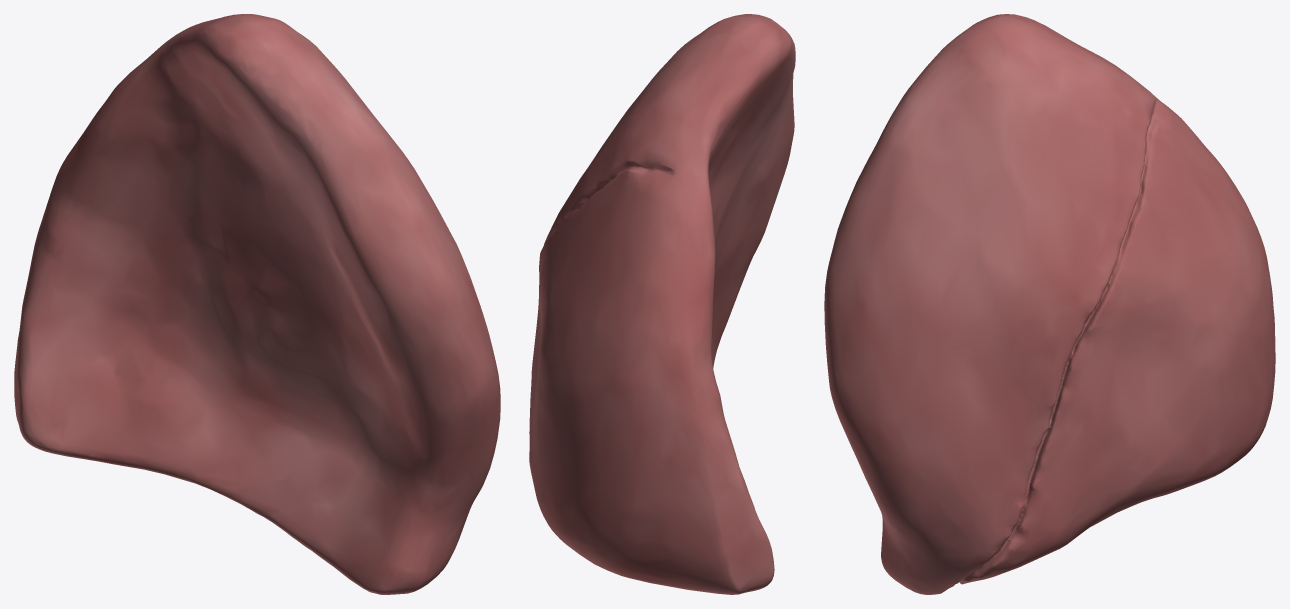
The model's file is lung_l.glb.
3 renders of one model, left to right at view 1: azimuth 30°, elevation 25°; view 2: azimuth 150°, elevation 25°; view 3: azimuth 270°, elevation 25°, orthographic. The views are drawn at different scales.
Visible parts, largest first — view 1: linkerlong3; view 2: linkerlong3; view 3: linkerlong3.
Boxes of the visible parts, x1=… form: linkerlong3: x1=14, y1=14, x2=500, y2=594; linkerlong3: x1=529, y1=14, x2=795, y2=594; linkerlong3: x1=824, y1=14, x2=1275, y2=594.
Size of the model in its own units: 0.7322 by 1.19 by 0.9442.
